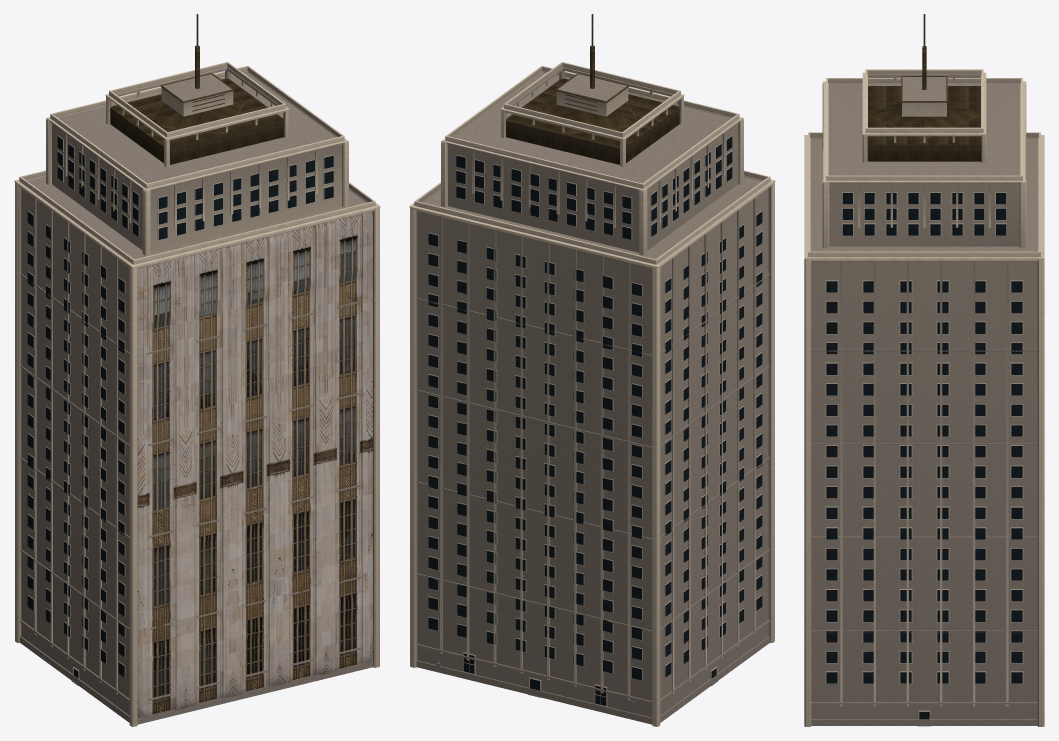
File: foundry-tower_lod0.gltf
The picture shows the model from 3 angles, left to right: view 1: azimuth 30°, elevation 25°; view 2: azimuth 150°, elevation 25°; view 3: azimuth 270°, elevation 25°; orthographic projection.
Visible parts, largest first — view 1: foundry-tower_front, foundry-tower__v4_stone_detail, foundry-tower_tier0, foundry-tower_tier1, foundry-tower_fen_07-glass-curtain-blue_1_t, foundry-tower_crown, foundry-tower_fen_04-limestone_0, foundry-tower__v4_metal_detail; view 2: foundry-tower_tier0, foundry-tower__v4_stone_detail, foundry-tower_fen_07-glass-curtain-blue_1_t, foundry-tower_tier1, foundry-tower_fen_04-limestone_0, foundry-tower_crown, foundry-tower__v4_metal_detail; view 3: foundry-tower_tier0, foundry-tower__v4_stone_detail, foundry-tower_fen_07-glass-curtain-blue_1_t, foundry-tower_tier1, foundry-tower_fen_04-limestone_0, foundry-tower_crown, foundry-tower__v4_metal_detail.
Part boxes in pixels (x1=…): foundry-tower_front: x1=137, y1=211, x2=372, y2=717; foundry-tower__v4_stone_detail: x1=14, y1=62, x2=380, y2=726; foundry-tower_tier0: x1=21, y1=177, x2=366, y2=715; foundry-tower_tier1: x1=52, y1=72, x2=341, y2=252; foundry-tower_fen_07-glass-curtain-blue_1_t: x1=27, y1=136, x2=333, y2=678; foundry-tower_crown: x1=110, y1=78, x2=283, y2=164; foundry-tower_fen_04-limestone_0: x1=28, y1=135, x2=333, y2=679; foundry-tower__v4_metal_detail: x1=160, y1=14, x2=234, y2=111; foundry-tower_tier0: x1=417, y1=177, x2=768, y2=717; foundry-tower__v4_stone_detail: x1=409, y1=62, x2=775, y2=726; foundry-tower_fen_07-glass-curtain-blue_1_t: x1=428, y1=136, x2=762, y2=705; foundry-tower_tier1: x1=448, y1=72, x2=737, y2=252; foundry-tower_fen_04-limestone_0: x1=428, y1=135, x2=761, y2=707; foundry-tower_crown: x1=506, y1=78, x2=679, y2=164; foundry-tower__v4_metal_detail: x1=555, y1=14, x2=629, y2=111; foundry-tower_tier0: x1=810, y1=138, x2=1038, y2=718; foundry-tower__v4_stone_detail: x1=804, y1=69, x2=1044, y2=726; foundry-tower_fen_07-glass-curtain-blue_1_t: x1=826, y1=193, x2=1022, y2=719; foundry-tower_tier1: x1=828, y1=84, x2=1020, y2=246; foundry-tower_fen_04-limestone_0: x1=825, y1=192, x2=1023, y2=719; foundry-tower_crown: x1=867, y1=86, x2=981, y2=161; foundry-tower__v4_metal_detail: x1=901, y1=14, x2=947, y2=108.
Size of the model in its own units: 56.6 by 139 by 46.6.
